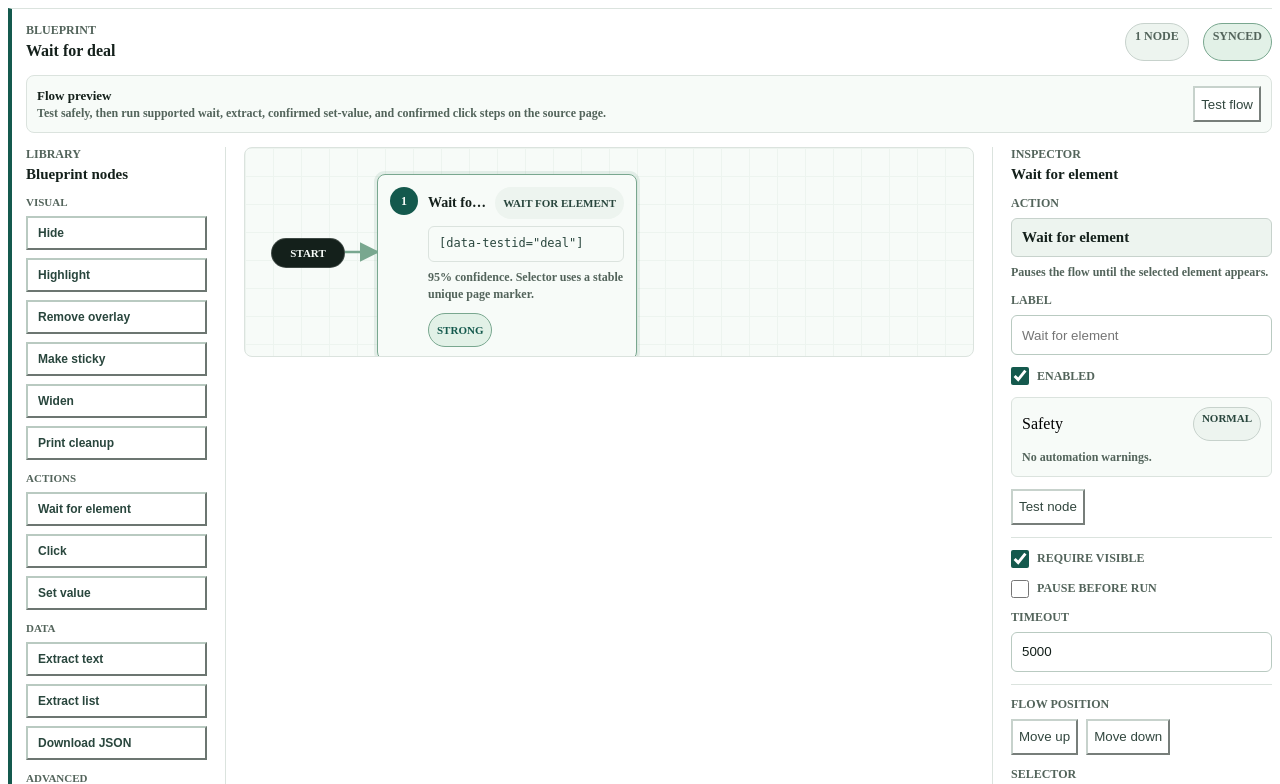
Test: BlueprintPreview › tests automation nodes against the source page without running them
Step 1. Click the button "Test node" → (1048,507), box [1011,489,1085,525]
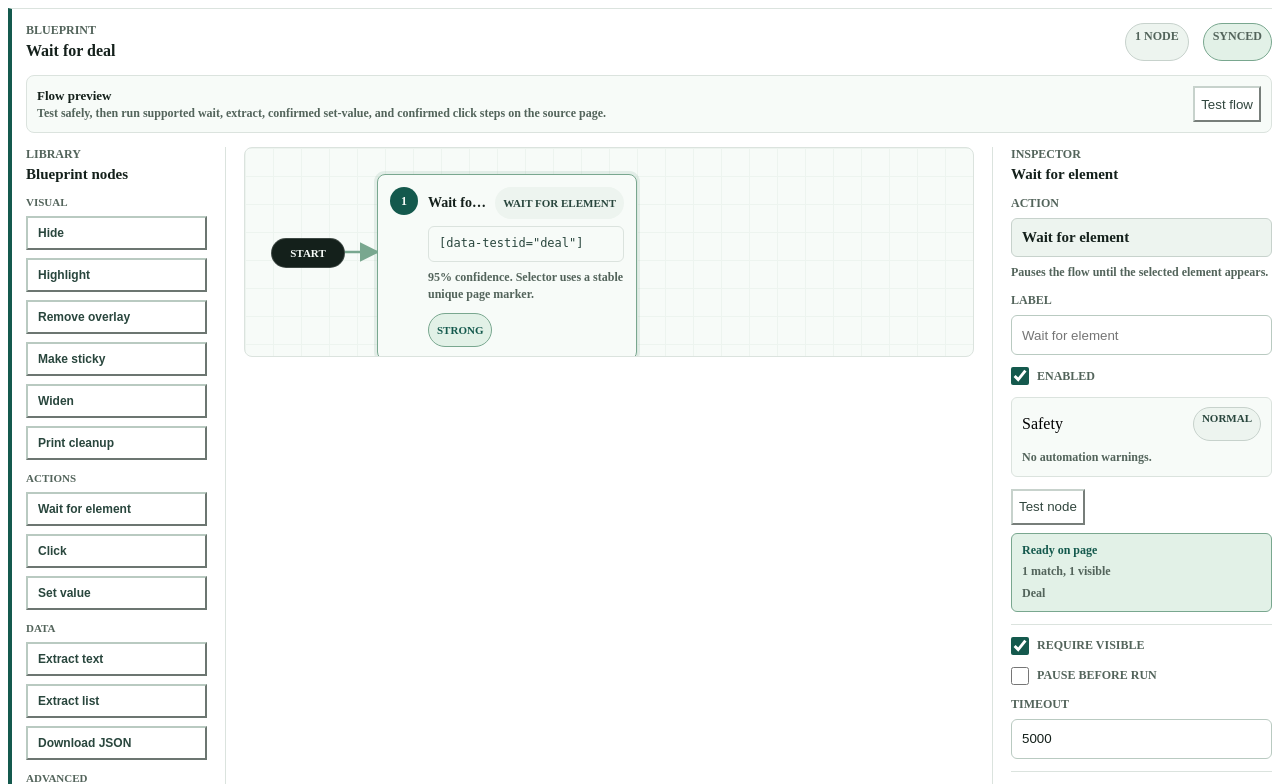
Result: the text "Ready on page" is shown at [1022,543,1097,557]
Result: the text "1 match, 1 visible" is shown at [1022,564,1111,578]
Result: the text "Deal" is shown at [1022,586,1045,600]
